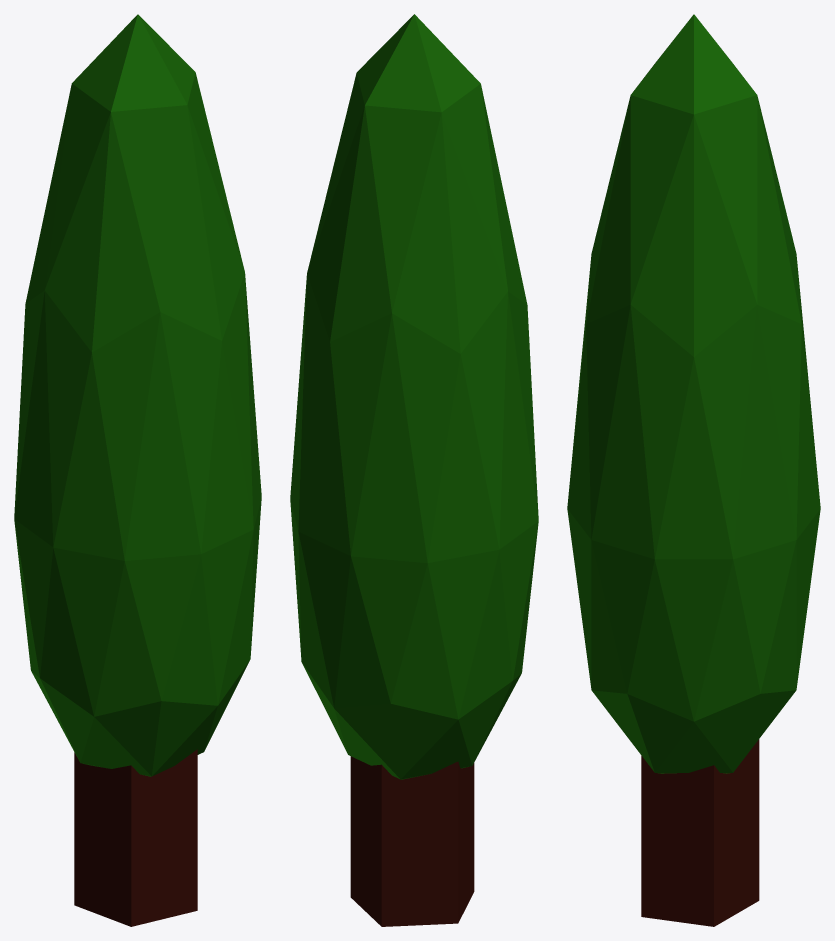
Rendered from ThinTree.obj.
3 renders of one model, left to right at view 1: azimuth 30°, elevation 25°; view 2: azimuth 150°, elevation 25°; view 3: azimuth 270°, elevation 25°, orthographic.
Parts seen in each view (by area): view 1: Icosphere.027; view 2: Icosphere.027; view 3: Icosphere.027.
Part boxes in pixels (x1,y1,x2,y2): Icosphere.027: (14,14,261,926); Icosphere.027: (290,14,538,926); Icosphere.027: (567,14,820,926).
Size of the model in its own units: 0.7636 by 3.1 by 0.8029.
1 material, 1 textured.
